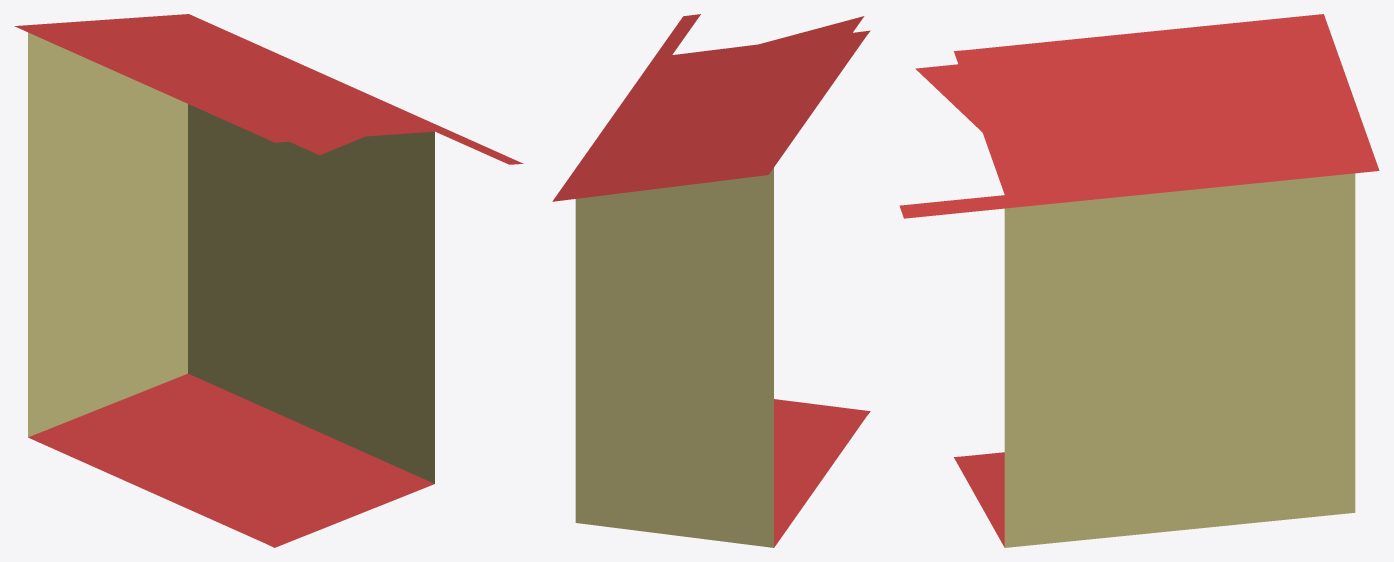
The picture shows the model from 3 angles, left to right: view 1: azimuth 30°, elevation 25°; view 2: azimuth 150°, elevation 25°; view 3: azimuth 270°, elevation 25°; orthographic projection. The views are drawn at different scales.
Size of the model in its own units: 4.29 by 5.93 by 5.54.
